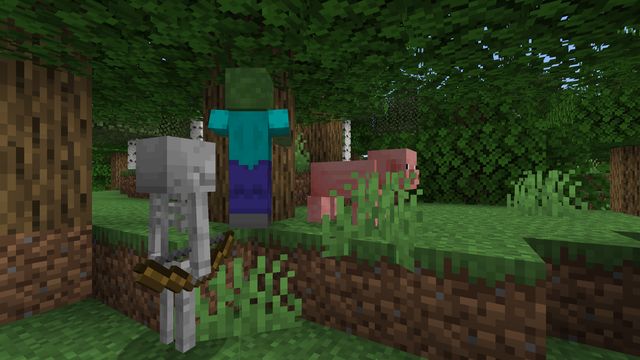cochons: (308, 157, 389, 230)
squelettes: (127, 135, 222, 357)
zombies: (216, 66, 282, 232)
